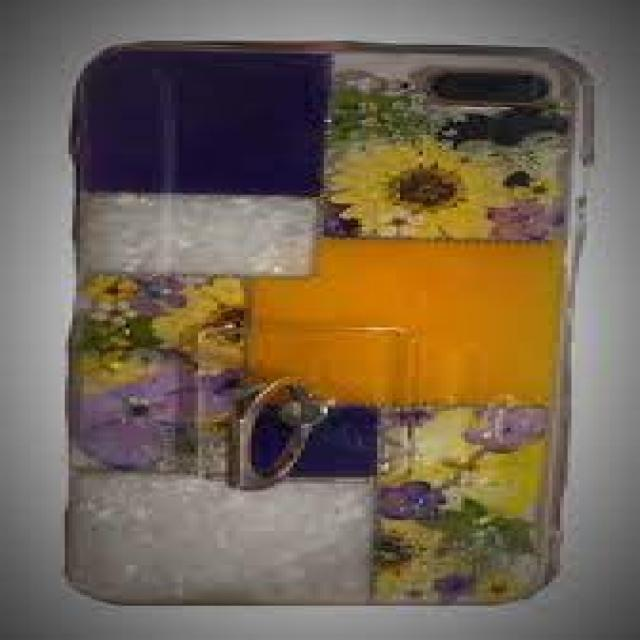Phone: (58, 36, 588, 609)
